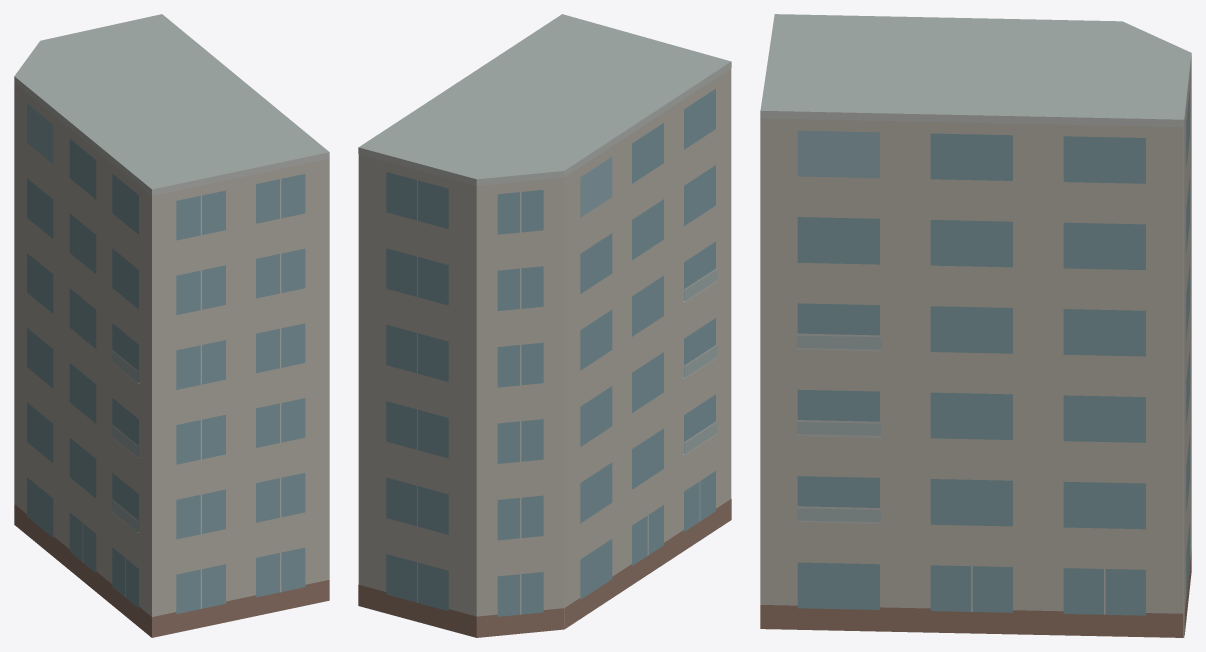
File: survey-upis-32781741.glb
The picture shows the model from 3 angles, left to right: view 1: azimuth 30°, elevation 25°; view 2: azimuth 150°, elevation 25°; view 3: azimuth 270°, elevation 25°; orthographic projection. The views are drawn at different scales.
Parts seen in each view (by area): view 1: survey-upis-32781741.tmp; view 2: survey-upis-32781741.tmp; view 3: survey-upis-32781741.tmp.
Boxes of the visible parts, x1,y1,x2,y2 form: survey-upis-32781741.tmp: (14,14,329,637); survey-upis-32781741.tmp: (358,14,731,637); survey-upis-32781741.tmp: (760,14,1191,637).
Bounding box in the file's own units: 7.36 × 16.8 × 12.68.
